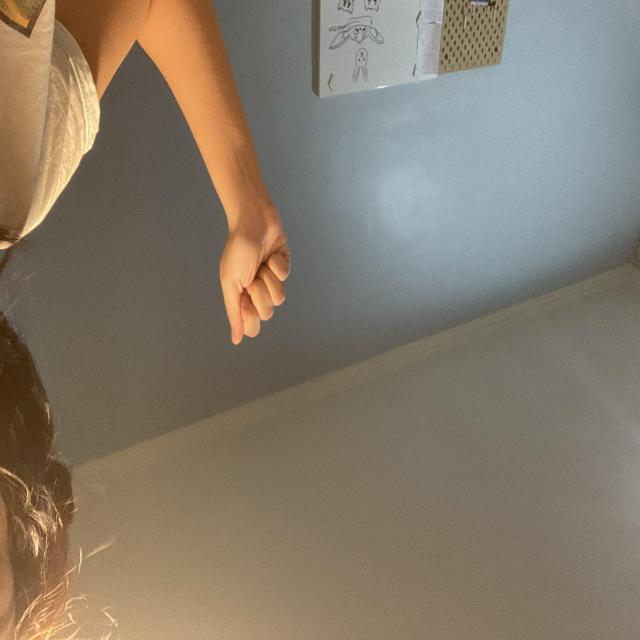A: (348, 296, 421, 436)
